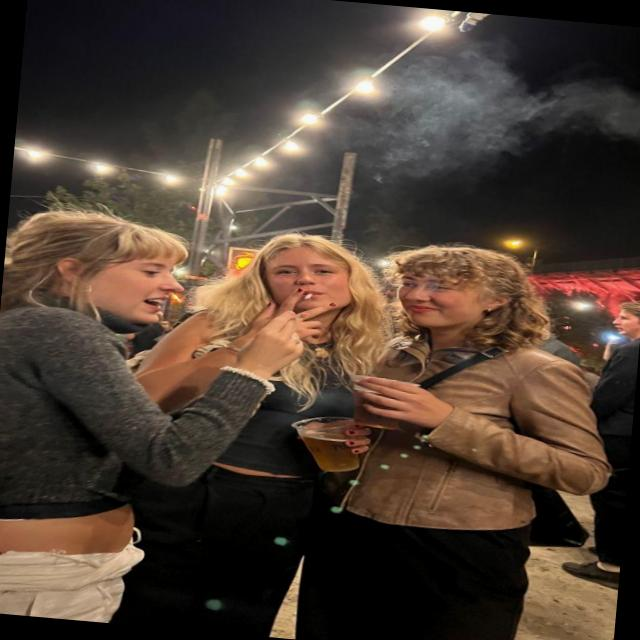smoke: (285, 288, 326, 304)
